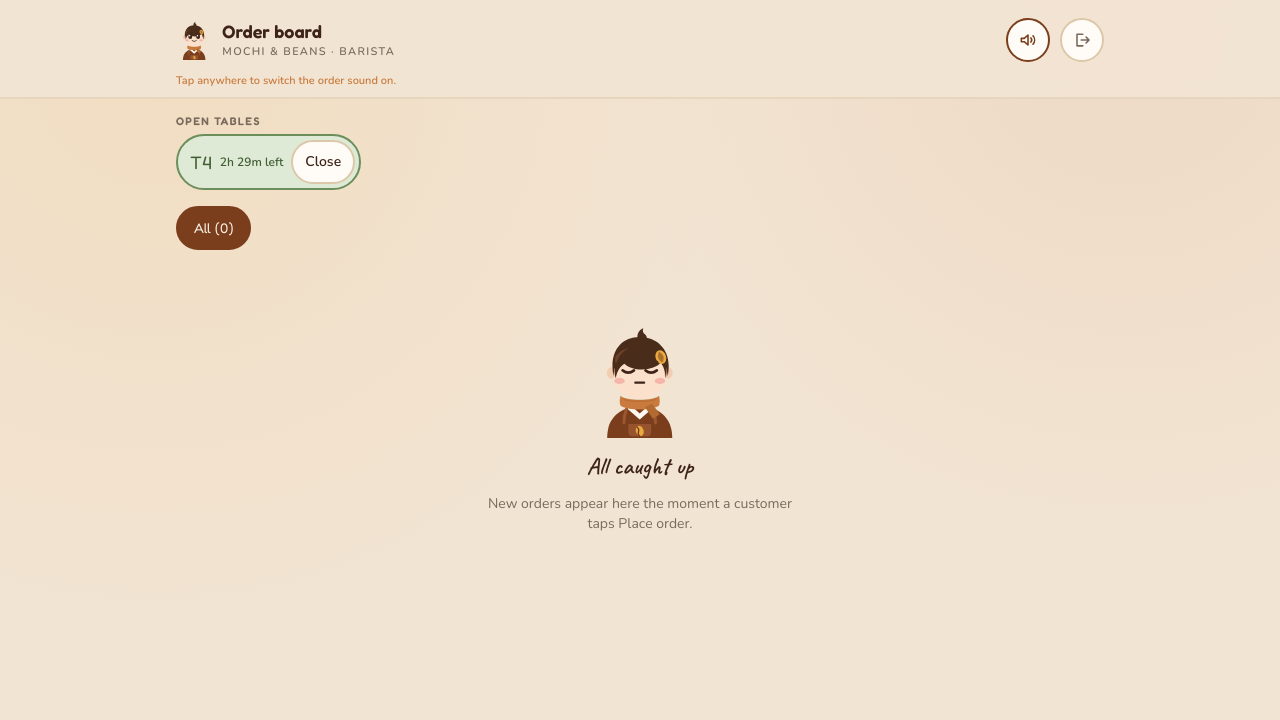
Test: staff board: new guests › shows open tables with their time left, and Close closes one
Expected: the text "T4" is shown, [190,153,212,171]
Expected: the text "2h 29m left" is shown, [220,154,283,170]
# Close asks first, and "Keep open" leaves the table alone.
Click the button with aria-label "Close table 4".
click(323, 162)  # box [291,140,355,184]
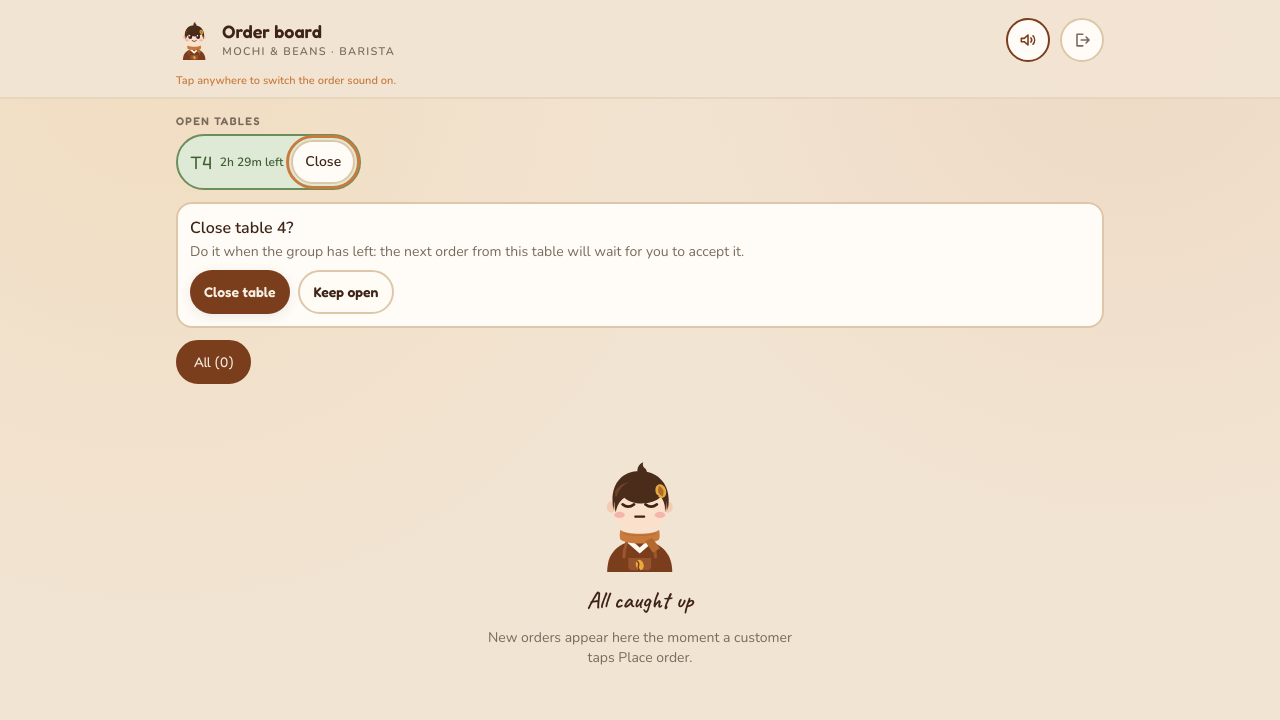
Expected: the text "Close table 4?" is shown, [190,217,294,239]
Click the button "Keep open".
click(346, 292)  # box [298,270,394,314]
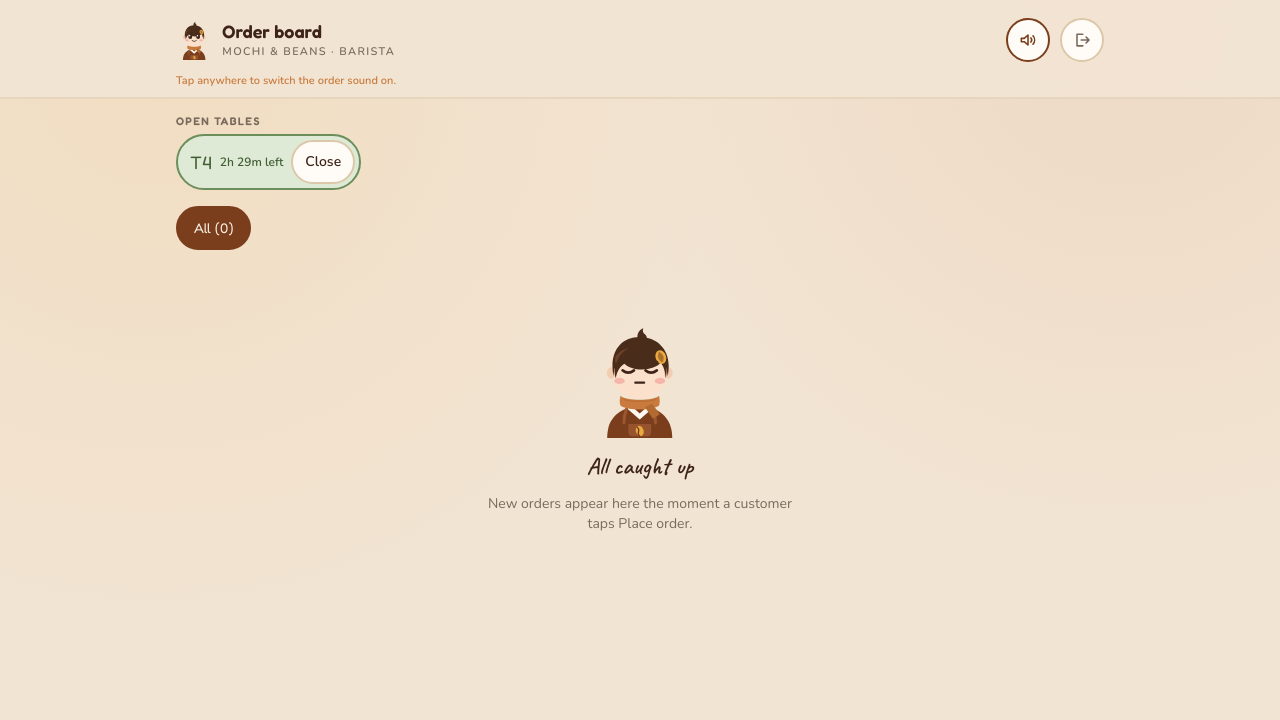
Expected: the text "Close table 4?" is gone
Click the button with aria-label "Close table 4".
click(323, 162)  # box [291,140,355,184]
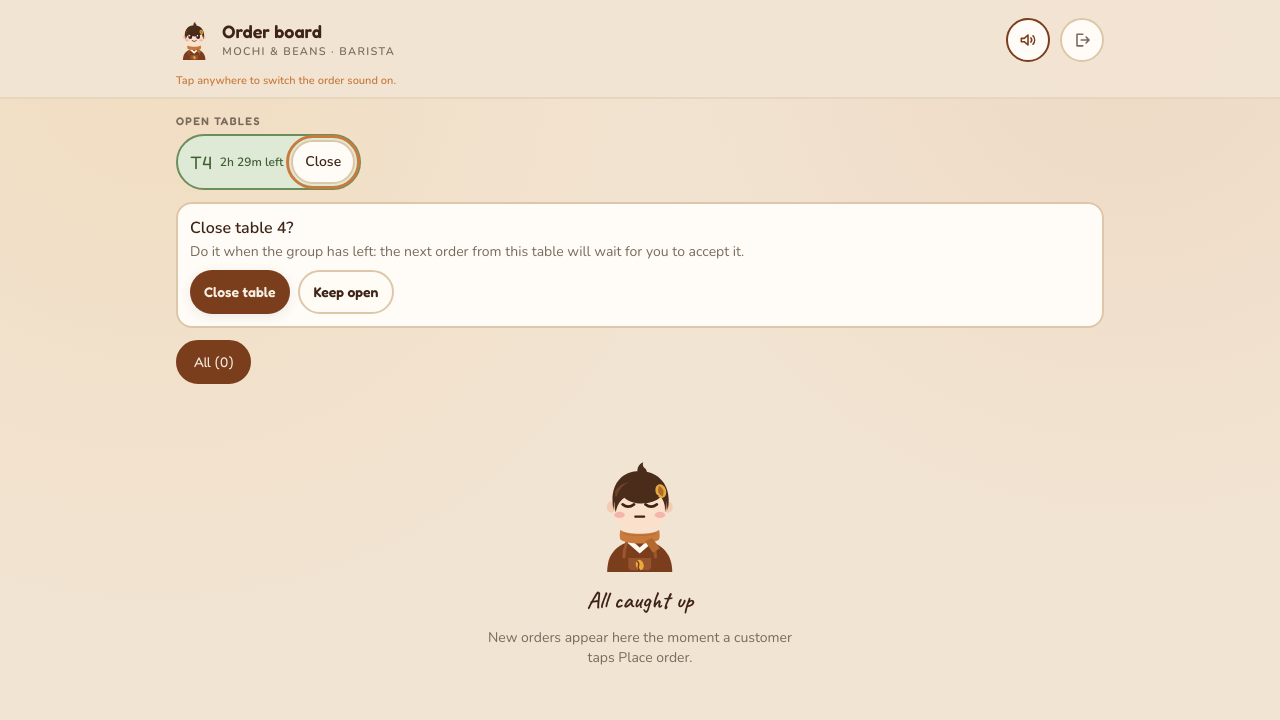
Click the button "Close table".
click(240, 292)  # box [190,270,290,314]
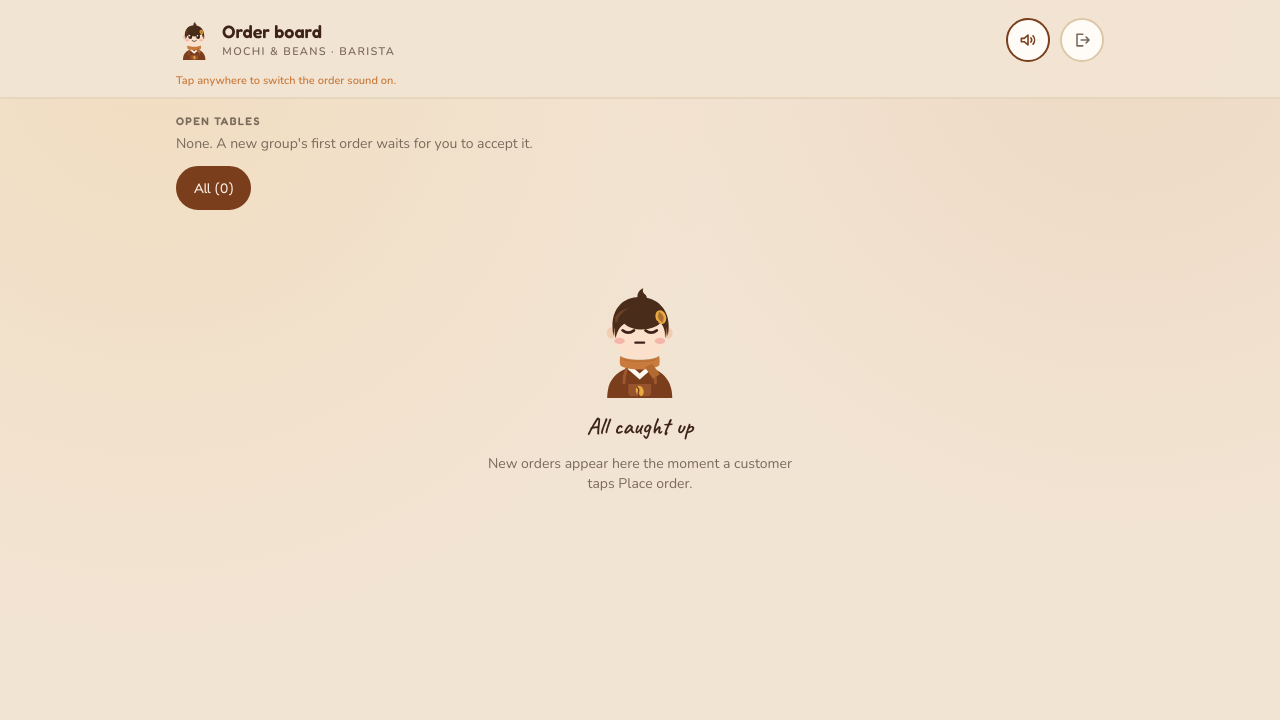
Expected: the text "None. A new group's first order waits for you to accept it." is shown, [176,134,533,153]
